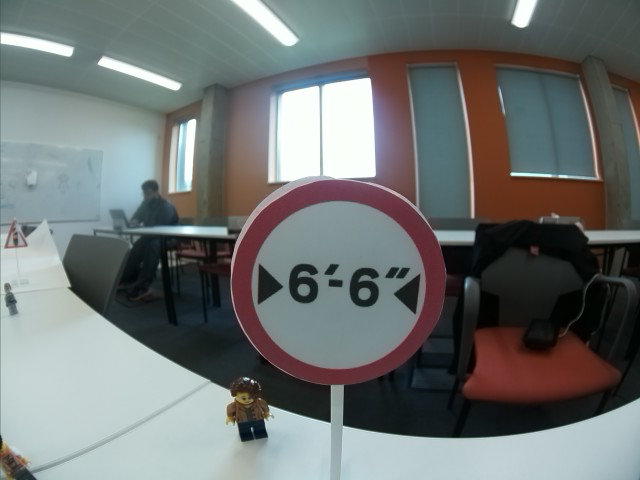6ft6: (231, 175, 447, 384)
Lego Man: (224, 374, 277, 444), (1, 434, 33, 480), (3, 282, 19, 316)
Traffic lights: (2, 215, 31, 249)
